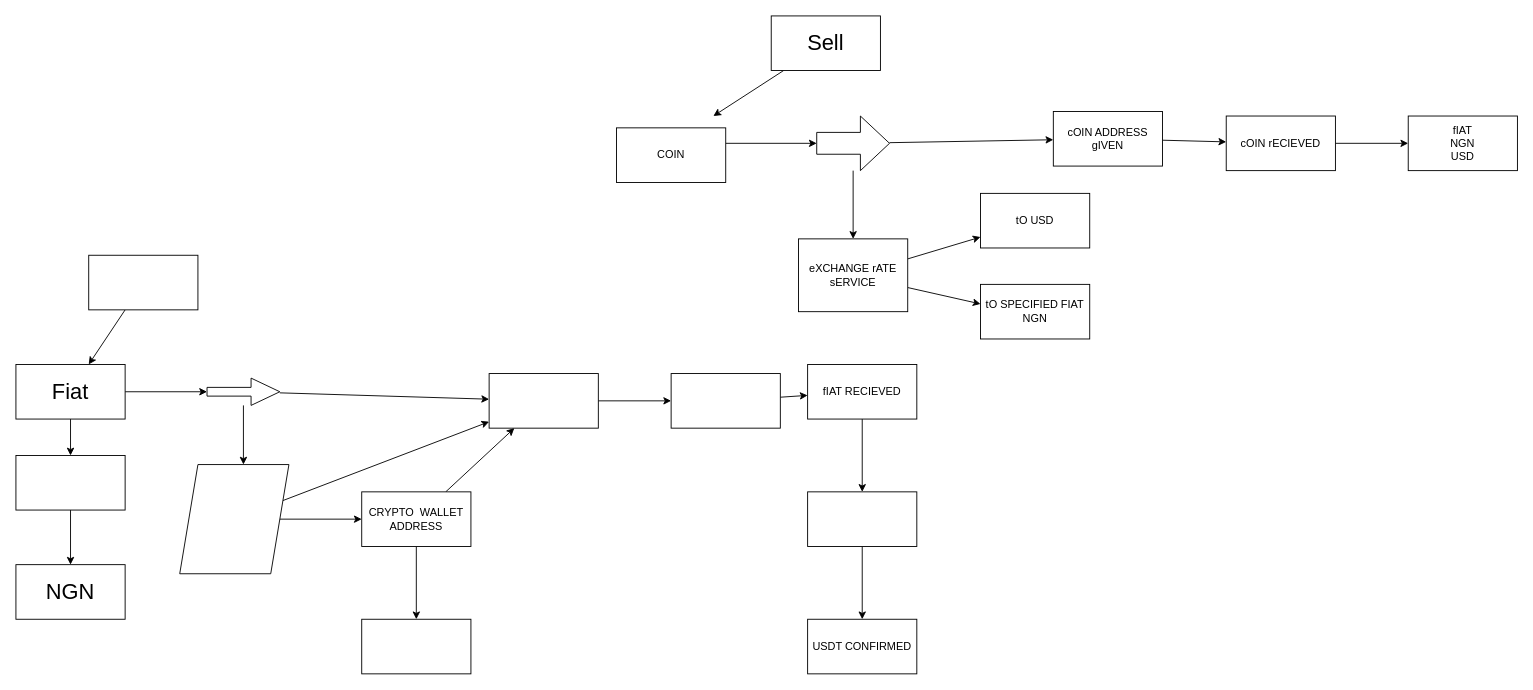
The diagram is 1533 pixels wide and 690 high, and some of its shapes have lost their labels. Each missing label, with the box of its shape:
Buy: (88, 254, 198, 310)
eXCHANGE SERVICE rATE: (179, 464, 289, 574)
fIAT ACCOUNT NUMBER: (488, 373, 598, 428)
fIAT SENT: (670, 373, 780, 428)
USD: (15, 455, 125, 510)
USDT SENT: (807, 491, 917, 546)
